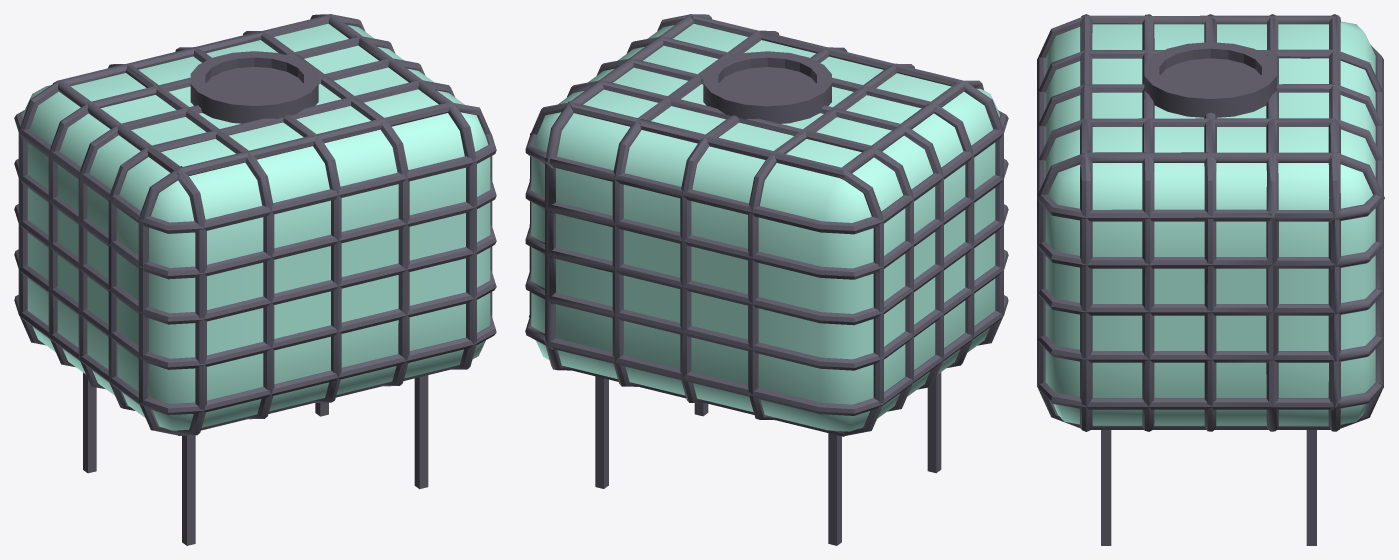
The model's file is 18 Water_tenk.FBX.
3 views of the same model, side by side, from view 1: azimuth 30°, elevation 25°; view 2: azimuth 150°, elevation 25°; view 3: azimuth 270°, elevation 25° (orthographic). The views are drawn at different scales.
Visible parts, largest first — view 1: Water_tank_1; view 2: Water_tank_1; view 3: Water_tank_1.
Boxes of the visible parts, left/top/right/bottom form: Water_tank_1: left=14, top=14, right=496, bottom=545; Water_tank_1: left=525, top=14, right=1008, bottom=545; Water_tank_1: left=1037, top=14, right=1384, bottom=545.
Size of the model in its own units: 1226 by 1325 by 1008.
